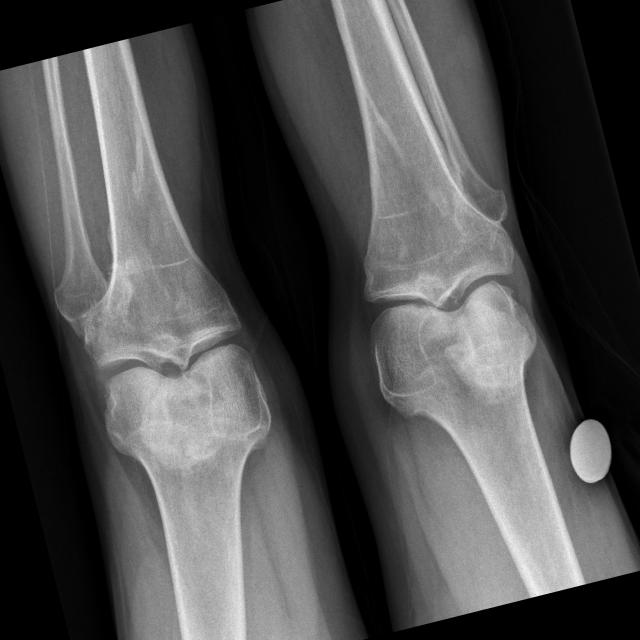Knee: (70, 262, 274, 456), (347, 209, 548, 385)
